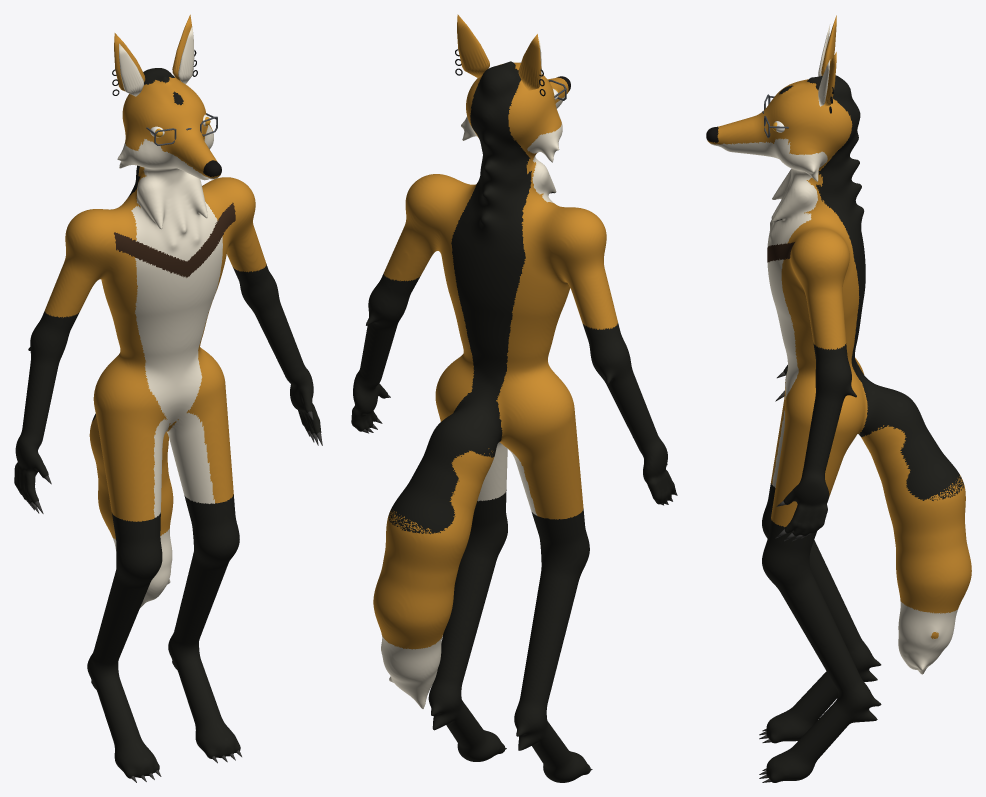
The model's file is vince.glb.
3 renders of one model, left to right at view 1: azimuth 30°, elevation 25°; view 2: azimuth 150°, elevation 25°; view 3: azimuth 270°, elevation 25°, orthographic. The views are drawn at different scales.
Visible parts, largest first — view 1: Vince_Body, Ear_inner_R, Ear_inner_L; view 2: Vince_Body, Ear_outer_L, Ear_outer_R; view 3: Vince_Body.
Boxes of the visible parts, x1,y1,x2,y2 form: Vince_Body: (14,68,321,778); Ear_inner_R: (119,43,144,96); Ear_inner_L: (178,26,194,84); Vince_Body: (351,61,675,782); Ear_outer_L: (457,14,489,78); Ear_outer_R: (518,34,541,90); Vince_Body: (706,75,971,782).
Size of the model in its own units: 0.8305 by 1.96 by 0.65.
